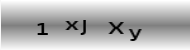1: (36, 22, 48, 35)
J: (79, 19, 87, 36)
X: (108, 21, 125, 35)
x: (65, 20, 79, 31)
y: (128, 27, 142, 41)
